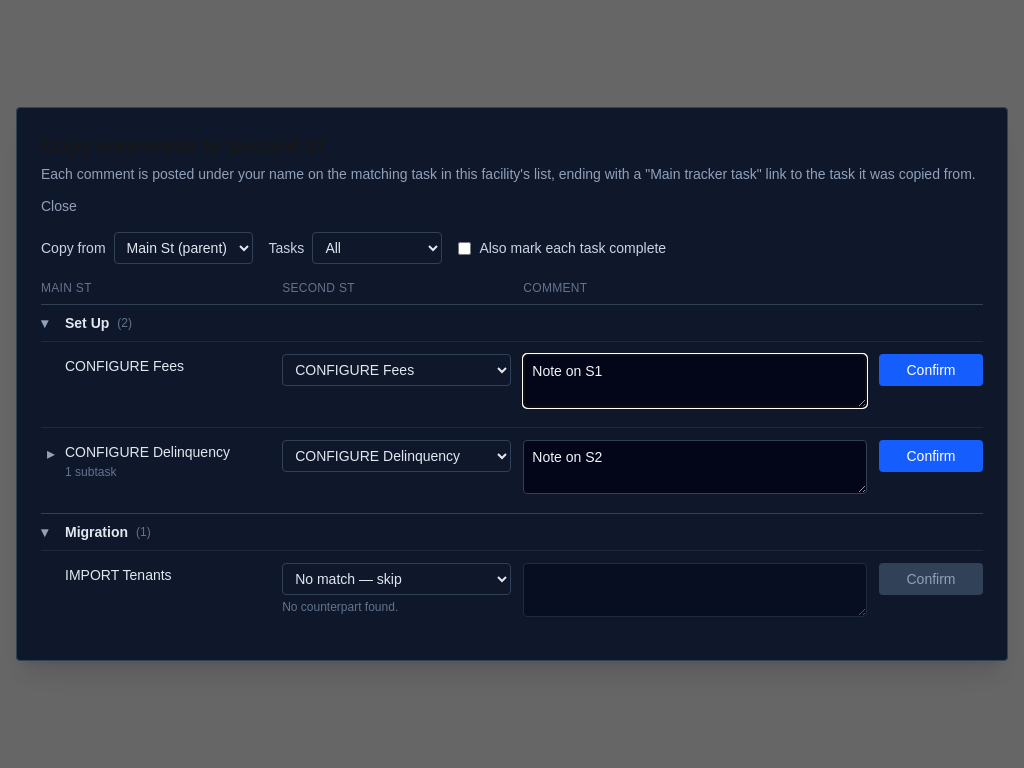
Test case: CopyCommentsDialog › only comments unless 'Also mark each task complete' is ticked, and then reports the completion
The image size is (1024, 768).
Check: the text box named "Comment for CONFIGURE Fees" holds "Note on S1", box [523,354,867,408]
Click the checkbox labelled "Also mark each task complete": {"x": 465, "y": 248} [458,242,471,254]
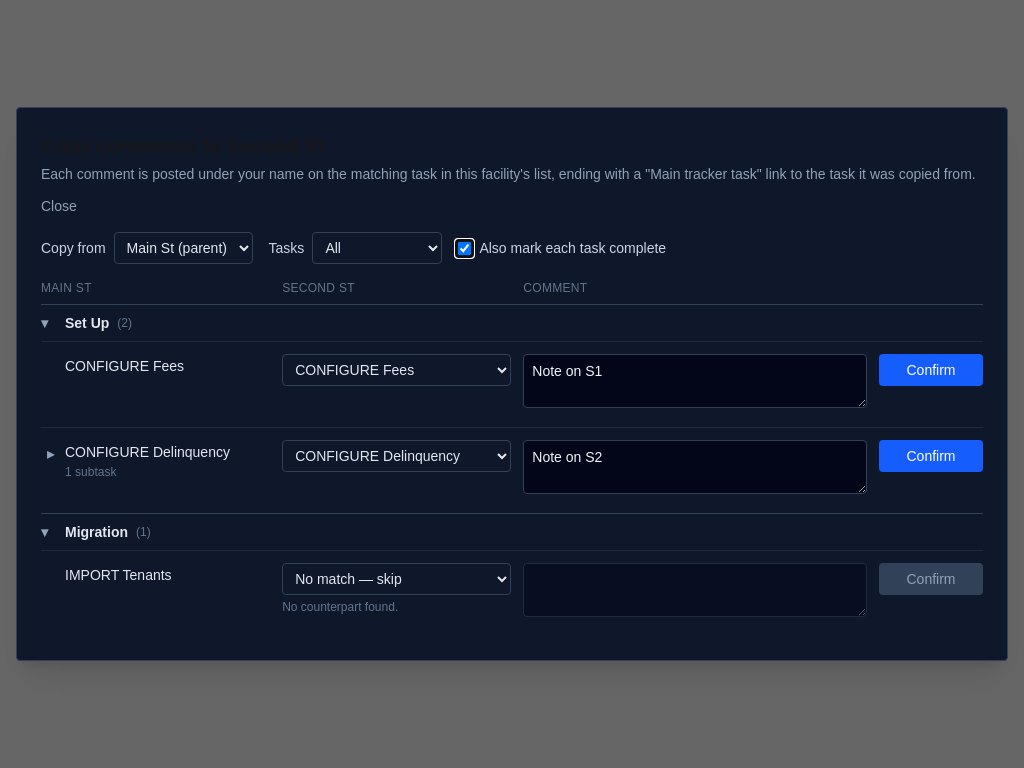
Click the button with aria-label "Confirm CONFIGURE Fees": {"x": 931, "y": 370} [879,354,983,386]
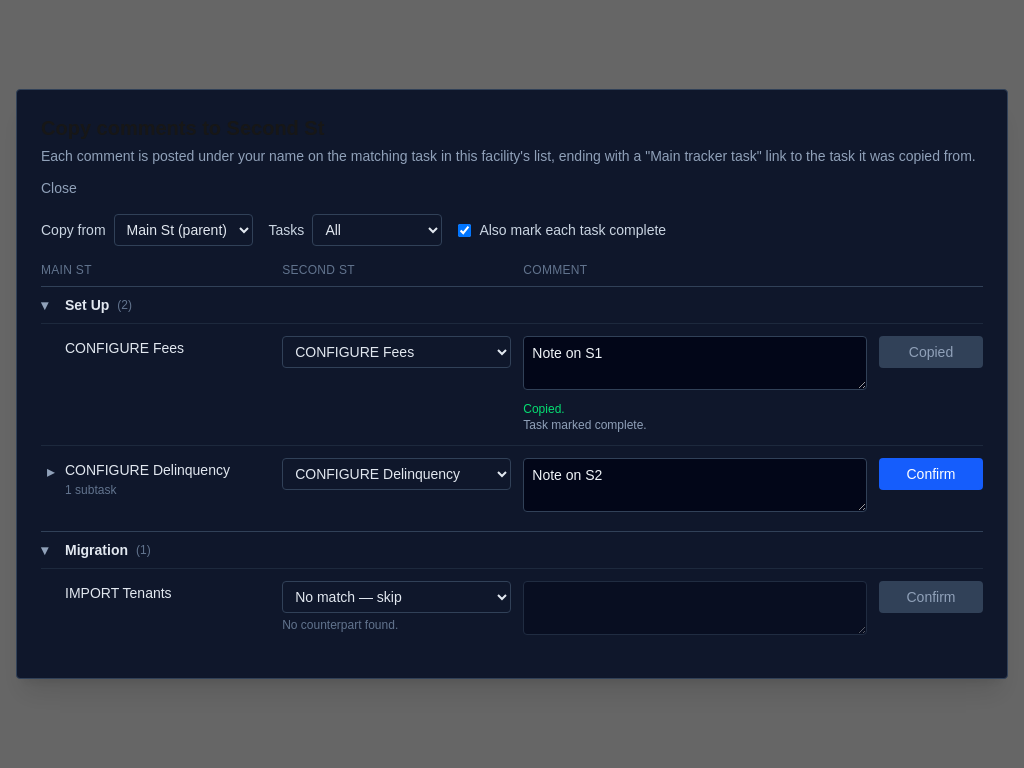
Check: the text "Task marked complete." is shown, box [523,418,647,432]
